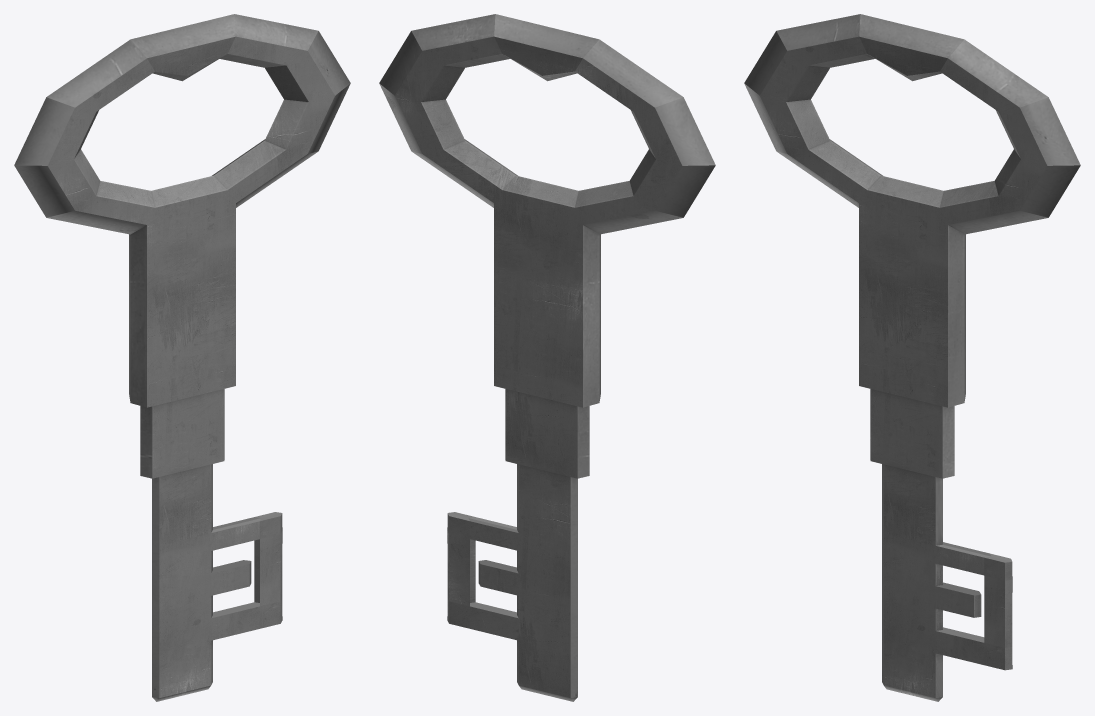
The model's file is ovalkey_textured_rae.fbx.
3 renders of one model, left to right at view 1: azimuth 30°, elevation 25°; view 2: azimuth 150°, elevation 25°; view 3: azimuth 330°, elevation 25°, orthographic.
Parts seen in each view (by area): view 1: oval_key; view 2: oval_key; view 3: oval_key.
Boxes of the visible parts, bbox=[...] form: oval_key: bbox=[14, 14, 350, 701]; oval_key: bbox=[379, 14, 715, 701]; oval_key: bbox=[744, 14, 1080, 701].
Bounding box in the file's own units: 7.63 × 14.48 × 0.7002.
Materials: 1 (1 with a texture image).
